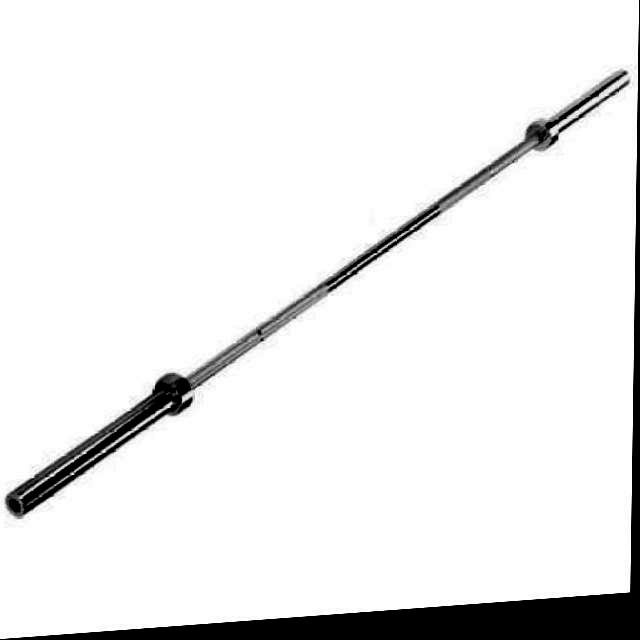barbell: (3, 369, 202, 525)
